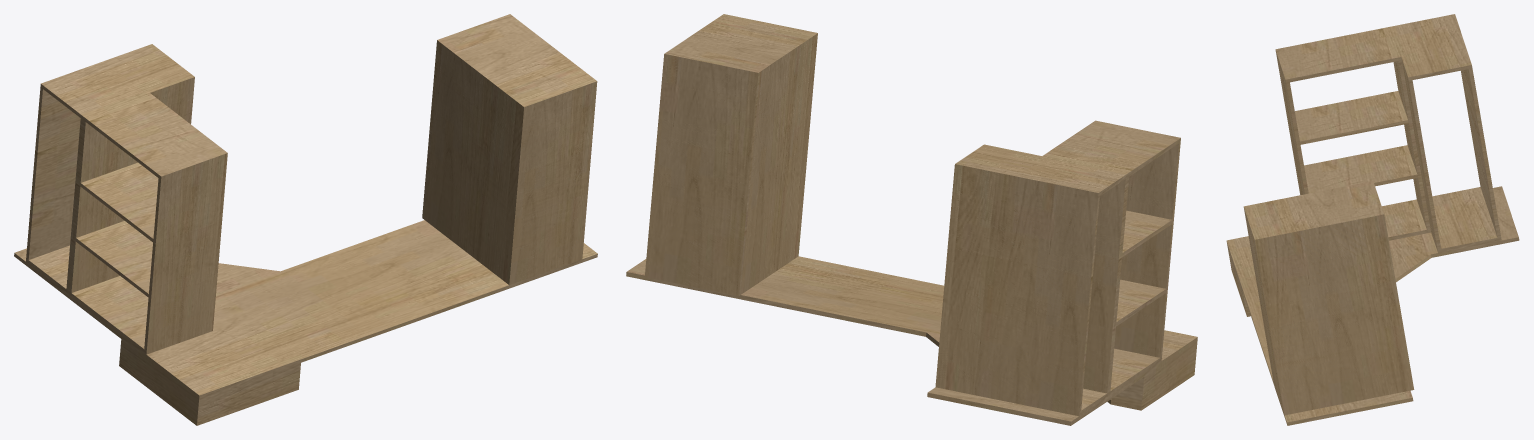
File: DESK2.dae
3 views of the same model, side by side, from view 1: azimuth 30°, elevation 25°; view 2: azimuth 150°, elevation 25°; view 3: azimuth 270°, elevation 25° (orthographic). The views are drawn at different scales.
Parts seen in each view (by area): view 1: skpjUhHe3 (×4); view 2: skpjUhHe3 (×3); view 3: skpjUhHe3 (×3).
Boxes of the visible parts, x1,y1,x2,y2 form: skpjUhHe3 (×4): (14, 14, 597, 425); skpjUhHe3 (×3): (626, 14, 1197, 425); skpjUhHe3 (×3): (1226, 14, 1519, 425).
Bounding box in the file's own units: 75.9 × 44.87 × 41.25.
2 materials, 1 textured.
